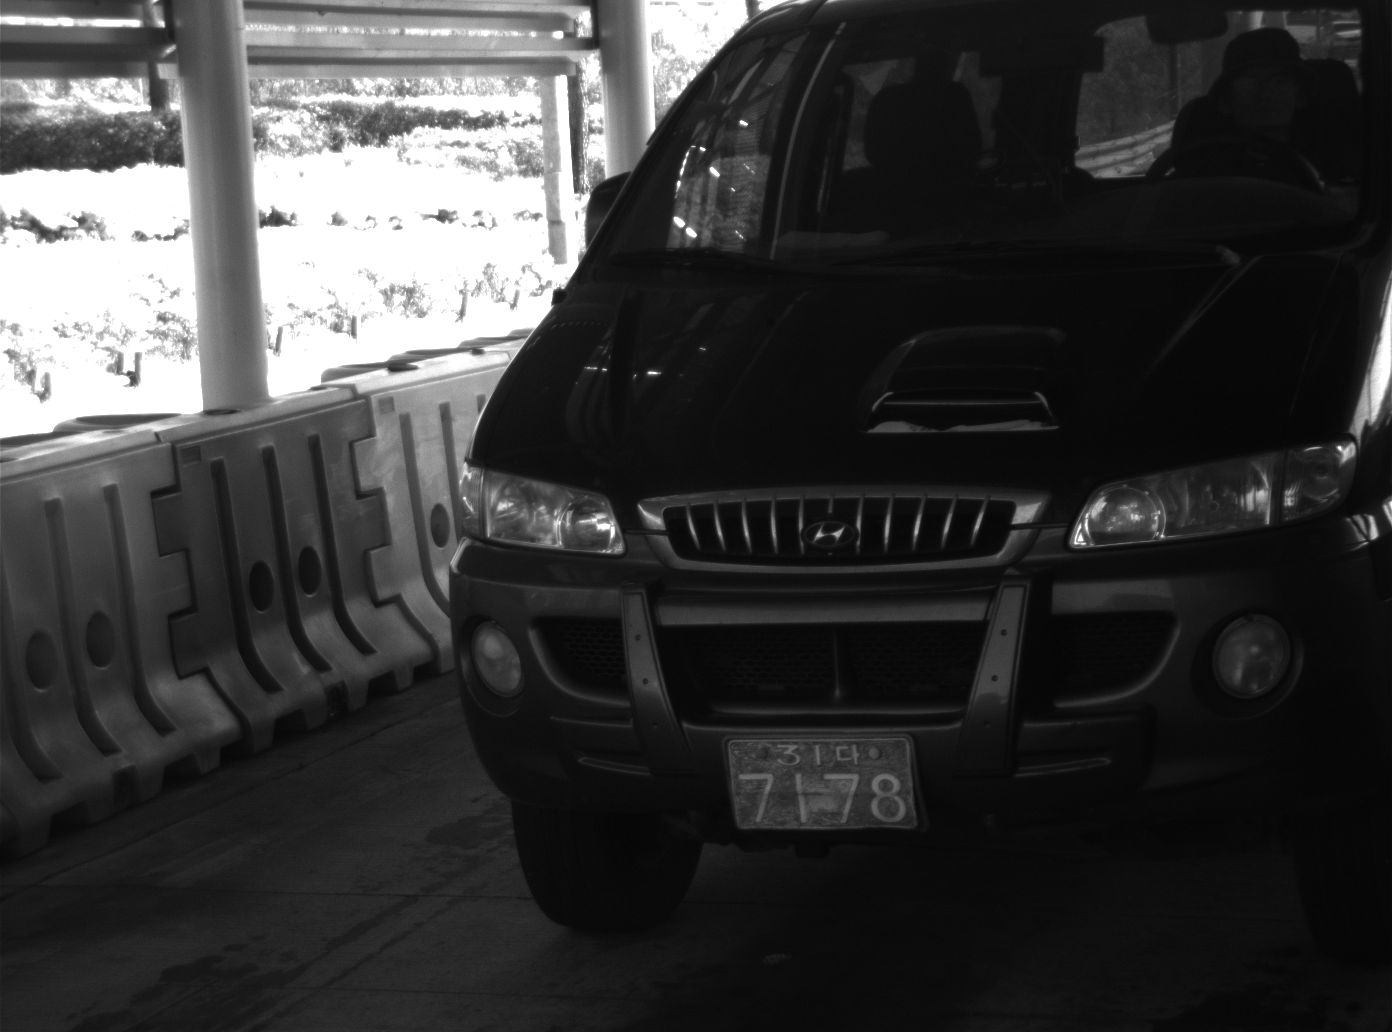car: (445, 1, 1392, 945)
plate: (722, 733, 919, 832)
